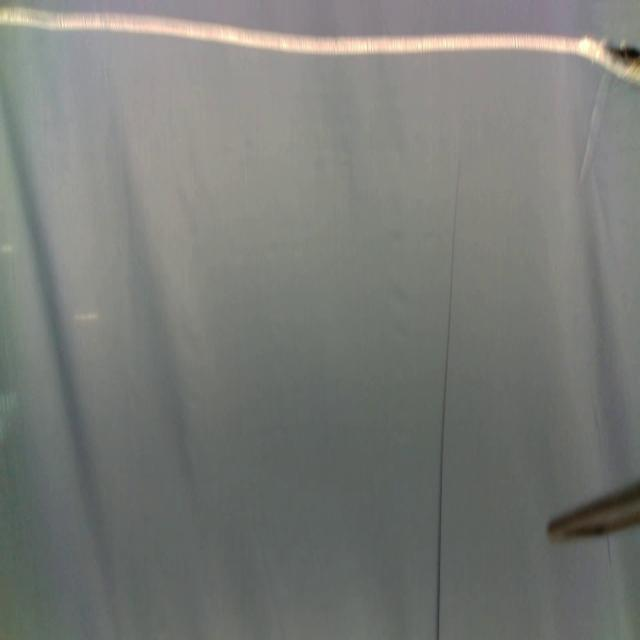crease: (434, 161, 462, 640)
hole: (605, 43, 640, 67)
